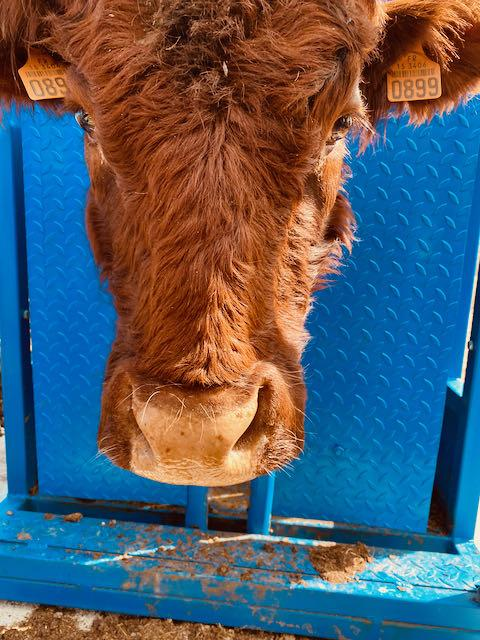muzzles: (79, 360, 315, 488)
